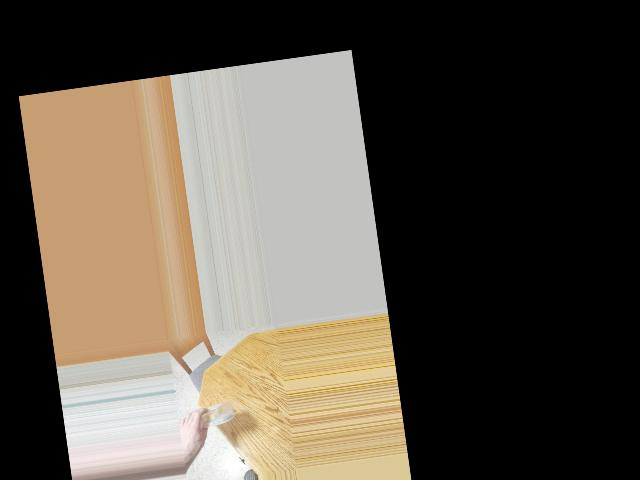cheese: (185, 393, 238, 447)
